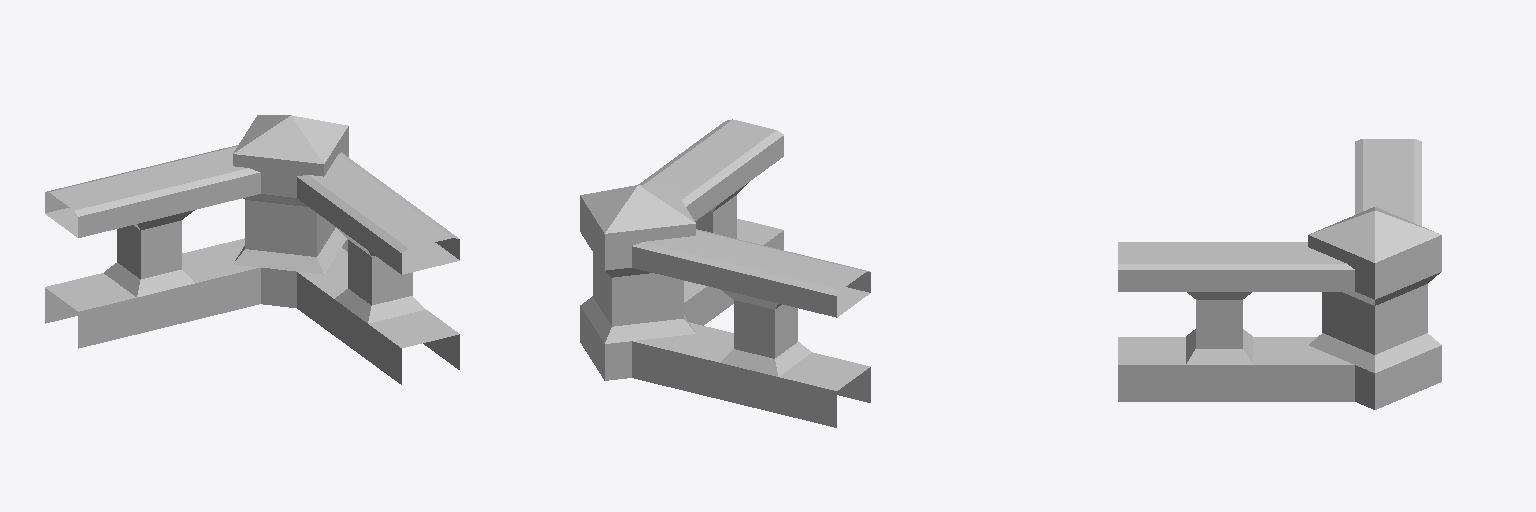
The model's file is barrier_corner.obj.
3 renders of one model, left to right at view 1: azimuth 30°, elevation 25°; view 2: azimuth 150°, elevation 25°; view 3: azimuth 270°, elevation 25°, orthographic.
Visible parts, largest first — view 1: barrier_corner; view 2: barrier_corner; view 3: barrier_corner.
Boxes of the visible parts, x1=… form: barrier_corner: x1=45, y1=115, x2=459, y2=384; barrier_corner: x1=580, y1=119, x2=870, y2=427; barrier_corner: x1=1118, y1=139, x2=1441, y2=409.
Size of the model in its own units: 2.4 by 1.4 by 2.4.